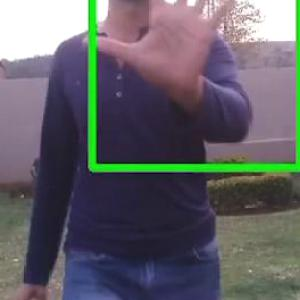follow_hand: (80, 0, 246, 100)
